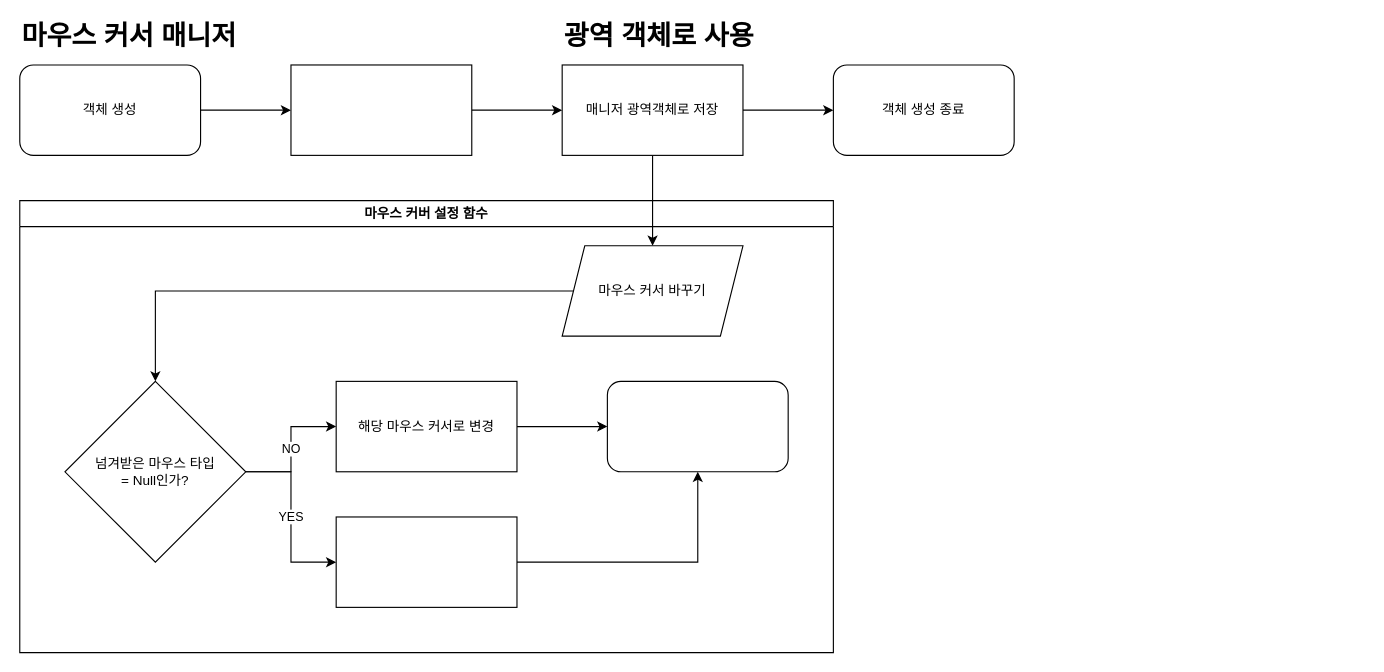
The diagram is 1384 pixels wide and 672 high, and some of its shapes have lost their labels. The shapes that lost their labels are listed below. From the top down, each one's centre as x and y in pixels, then its label:
At (x=381, y=109): "마우스 커서 텍스쳐 로드 지역 변수로 저장".
At (x=697, y=426): "함수 종료".
At (x=426, y=561): "기본 마우스 커서로 변경".
